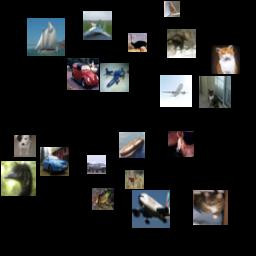airplane: (132, 190, 170, 228), (160, 75, 192, 107), (83, 11, 112, 40), (100, 63, 129, 92), (87, 155, 106, 174)
automobile: (67, 58, 99, 90), (40, 147, 69, 176)
bird: (1, 161, 36, 196), (128, 33, 147, 52), (164, 1, 180, 17)
cat: (193, 190, 228, 225), (199, 76, 231, 108), (211, 45, 240, 74)
deer: (167, 29, 196, 58), (125, 170, 144, 189)
dog: (14, 135, 36, 157)
frog: (92, 188, 114, 210)
ship: (27, 18, 65, 56), (119, 132, 145, 158)
